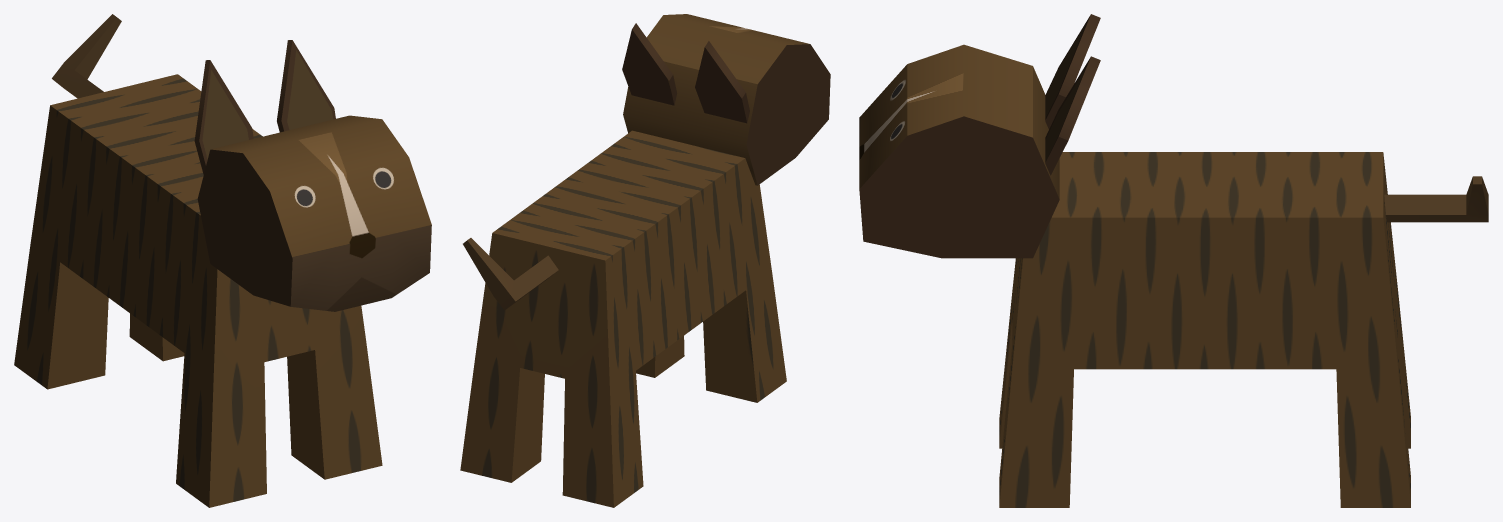
Rendered from Md-boxerDog.fbx.
3 views of the same model, side by side, from view 1: azimuth 30°, elevation 25°; view 2: azimuth 150°, elevation 25°; view 3: azimuth 270°, elevation 25° (orthographic). The views are drawn at different scales.
Parts seen in each view (by area): view 1: Body, Head, RightEar, LeftEar, Tail; view 2: Body, Head, LeftEar, RightEar, Tail; view 3: Body, Head, Tail, LeftEar, RightEar.
Boxes of the visible parts, x1,y1,x2,y2 form: Body: (14,74,382,507); Head: (197,115,431,311); RightEar: (194,60,253,174); LeftEar: (277,40,335,132); Tail: (52,14,121,98); Body: (460,130,786,507); Head: (623,14,830,185); LeftEar: (622,23,677,105); RightEar: (695,41,749,123); Tail: (463,238,558,310); Body: (999,152,1410,507); Head: (859,44,1059,258); Tail: (1384,176,1488,222); LeftEar: (1045,56,1100,175); RightEar: (1045,14,1100,129).
Size of the model in its own units: 0.9834 by 2.2 by 2.93.
1 material, 1 textured.
